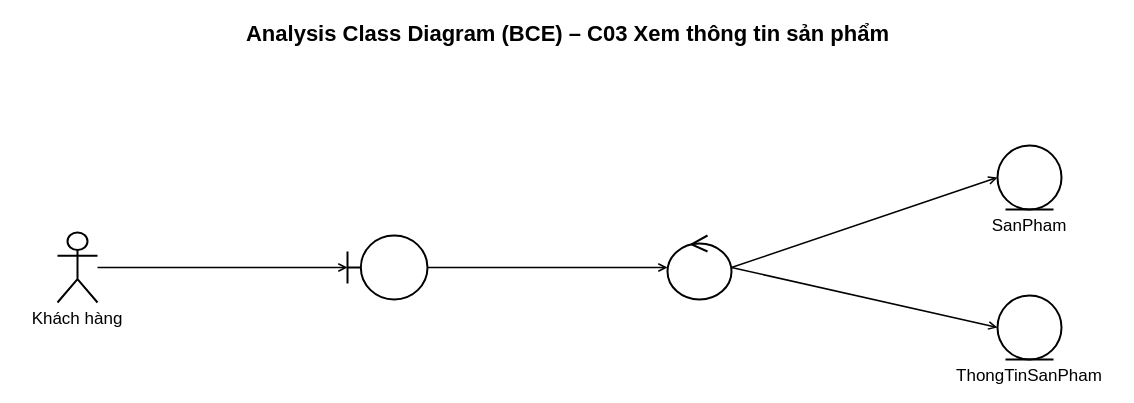
Image size: 1134x403. Some labels were removed from this diagram. Each missing label, with the box of its shape:
XemSanPhamController: (666, 234, 732, 300)
XemSanPhamPage: (346, 234, 428, 300)
